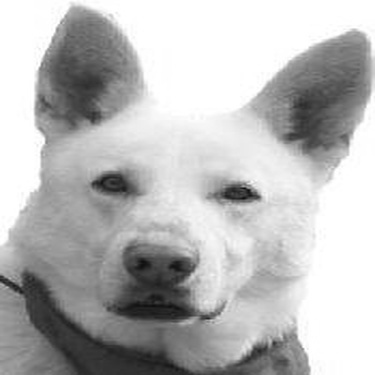dog: (1, 3, 373, 373)
